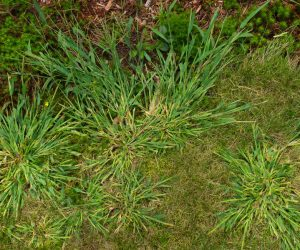crabgrass: (68, 43, 215, 164), (223, 139, 300, 246), (4, 107, 76, 199), (78, 173, 162, 230)
